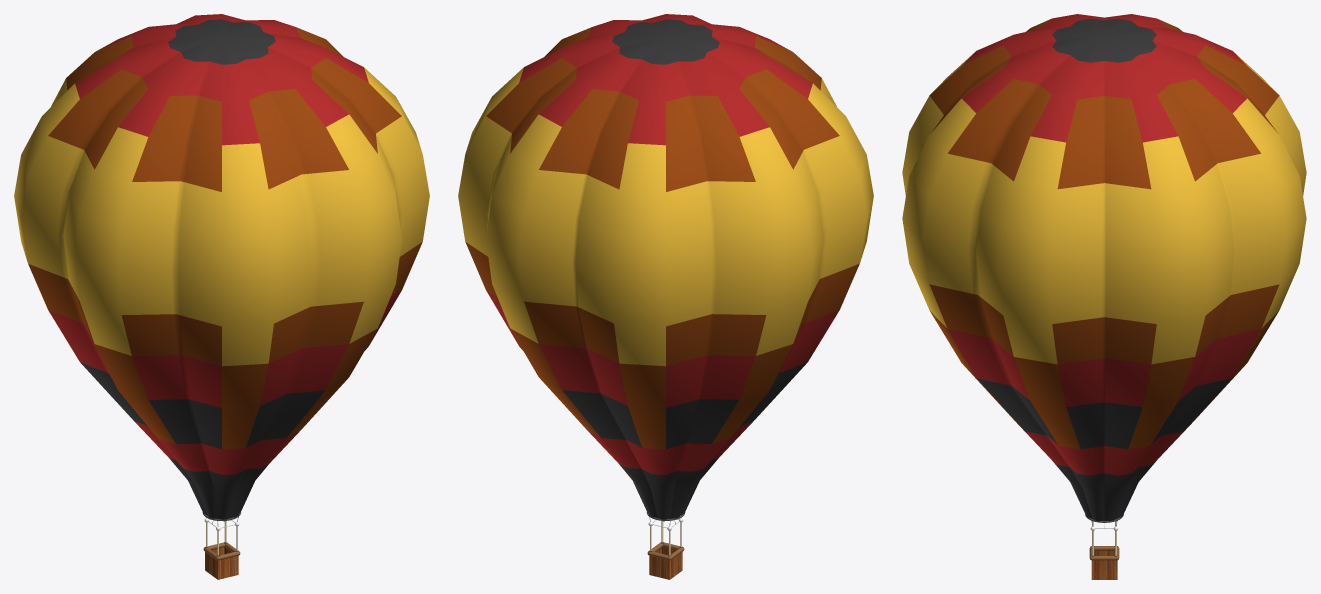
Rendered from hotAirBalloon.gltf.
The picture shows the model from 3 angles, left to right: view 1: azimuth 30°, elevation 25°; view 2: azimuth 150°, elevation 25°; view 3: azimuth 270°, elevation 25°; orthographic projection.
Parts seen in each view (by area): view 1: envelopeMainBand, envelopeMidBand, envelopeTopBand, envelopeBottomBand; view 2: envelopeMainBand, envelopeMidBand, envelopeTopBand, envelopeBottomBand; view 3: envelopeMainBand, envelopeMidBand, envelopeTopBand, envelopeBottomBand, basketInnerWall.
Boxes of the visible parts, left/top/right/bottom form: envelopeMainBand: left=14, top=67, right=429, bottom=366; envelopeMidBand: left=28, top=27, right=422, bottom=449; envelopeTopBand: left=48, top=14, right=401, bottom=474; envelopeBottomBand: left=80, top=19, right=367, bottom=519; envelopeMainBand: left=458, top=67, right=873, bottom=366; envelopeMidBand: left=465, top=27, right=859, bottom=449; envelopeTopBand: left=486, top=14, right=839, bottom=474; envelopeBottomBand: left=519, top=19, right=807, bottom=519; envelopeMainBand: left=902, top=53, right=1306, bottom=364; envelopeMidBand: left=929, top=19, right=1279, bottom=449; envelopeTopBand: left=948, top=14, right=1260, bottom=475; envelopeBottomBand: left=976, top=18, right=1232, bottom=521; basketInnerWall: left=1091, top=560, right=1117, bottom=579.
Bounding box in the file's own units: 22.42 × 33.03 × 22.42.
Materials: 16 (2 with a texture image).
